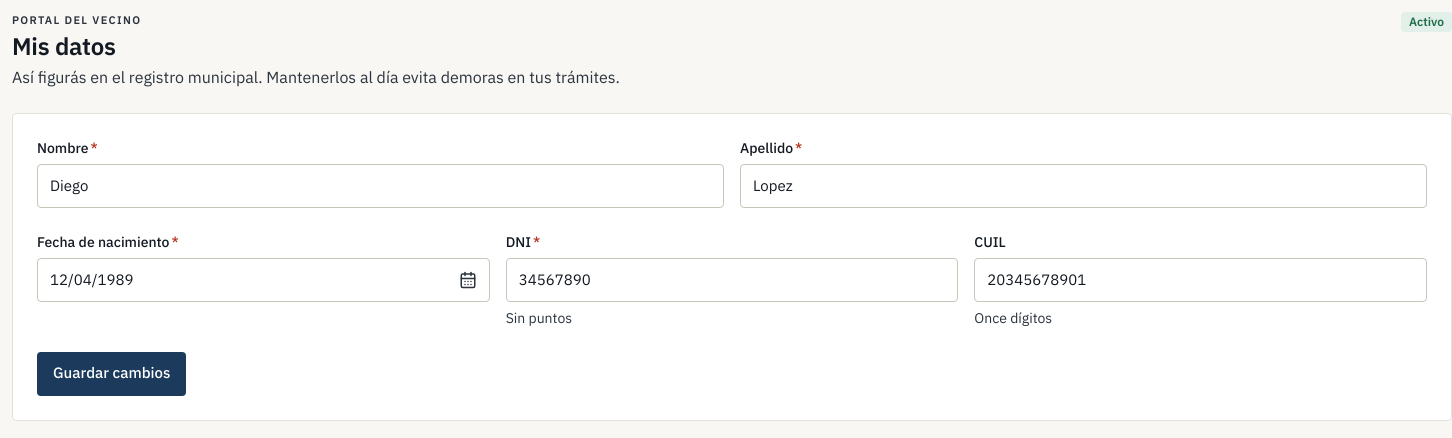
Test: Perfil › acepta dejar vacío el CUIL opcional
Clear the field labelled "CUIL". click: (1201, 280)
box: [974,258,1427,302]
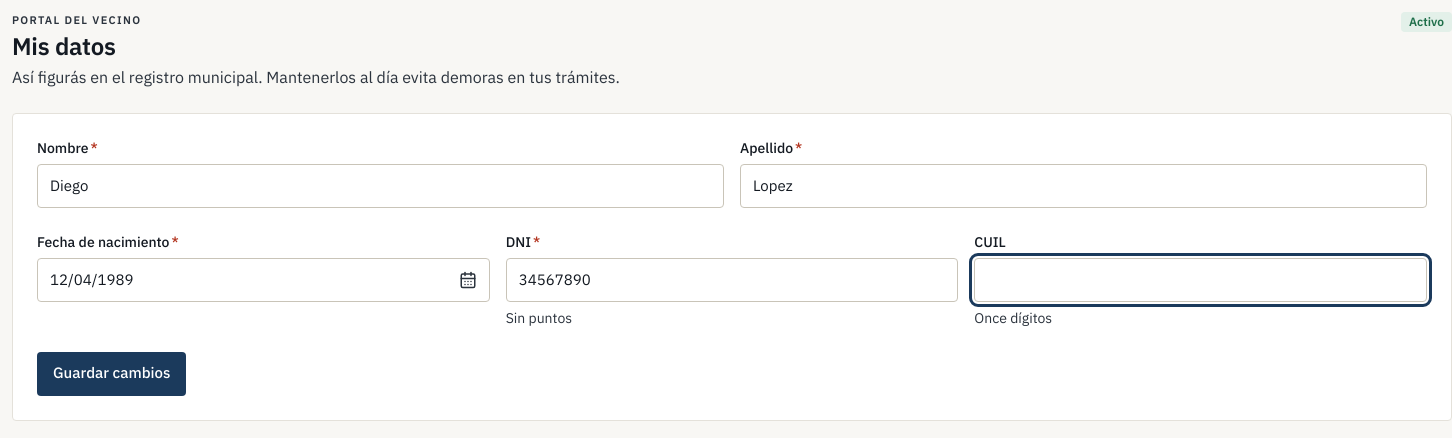
Click the button "Guardar cambios". click: (112, 374)
box: [37,352,186,396]
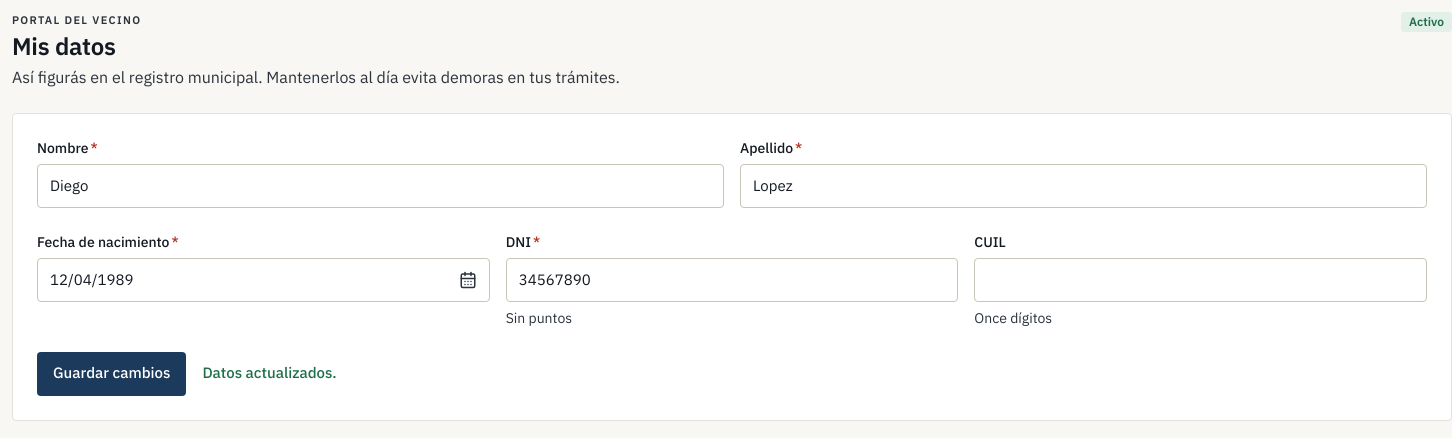
Check: the text "Datos actualizados." is shown, box [202,362,337,385]
